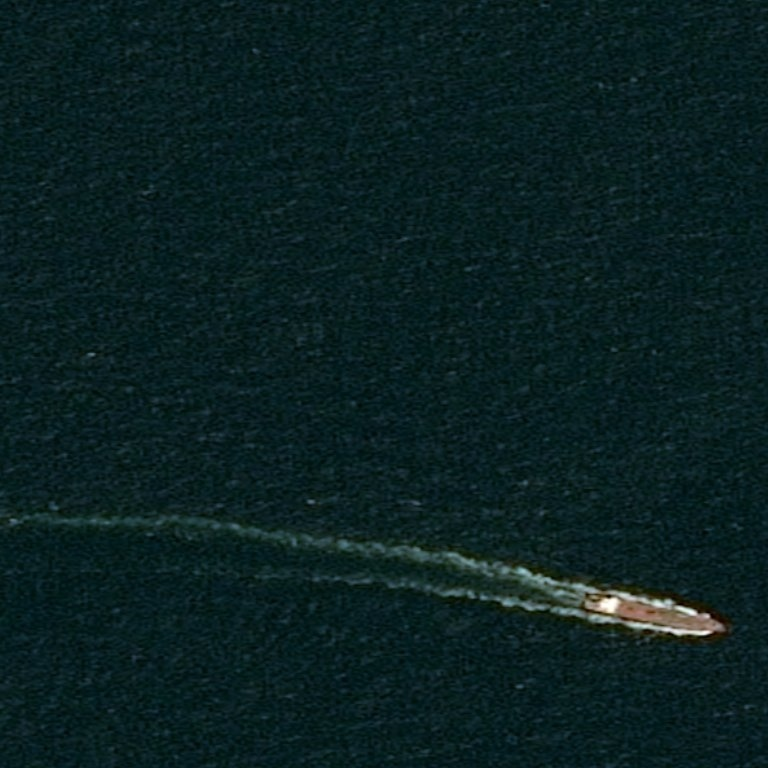ship: (582, 592, 724, 631)
